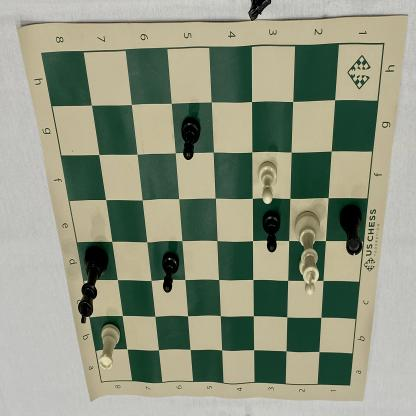black-king: (76, 240, 111, 330)
black-pawn: (177, 112, 205, 166), (158, 245, 183, 303), (260, 207, 284, 262)
black-rook: (336, 202, 372, 266)
white-king: (291, 207, 329, 290)
white-pawn: (252, 157, 280, 206), (295, 251, 321, 298)
white-rook: (97, 317, 124, 374)
